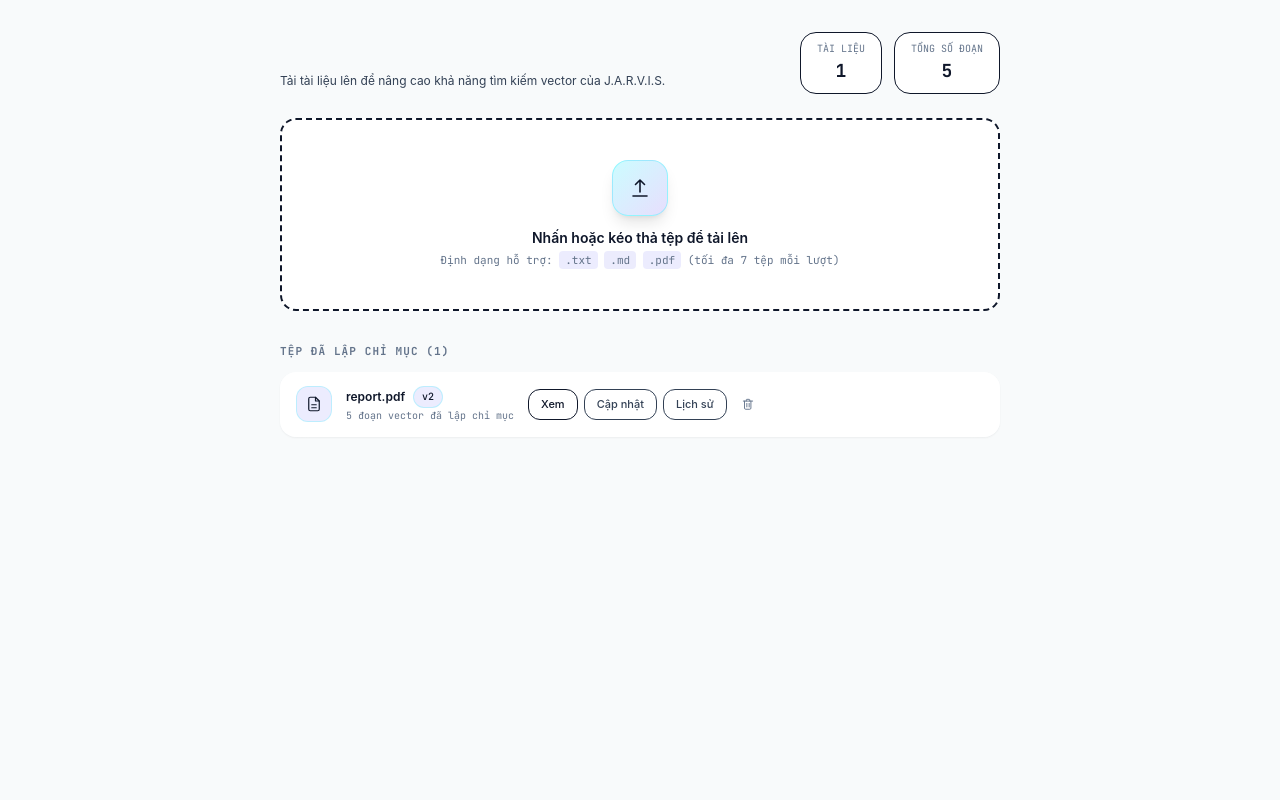
Test case: DocumentsView › shows the version content modal with a translated close button
Click the button "Xem" at (553, 404), box 528,389 -> 578,420
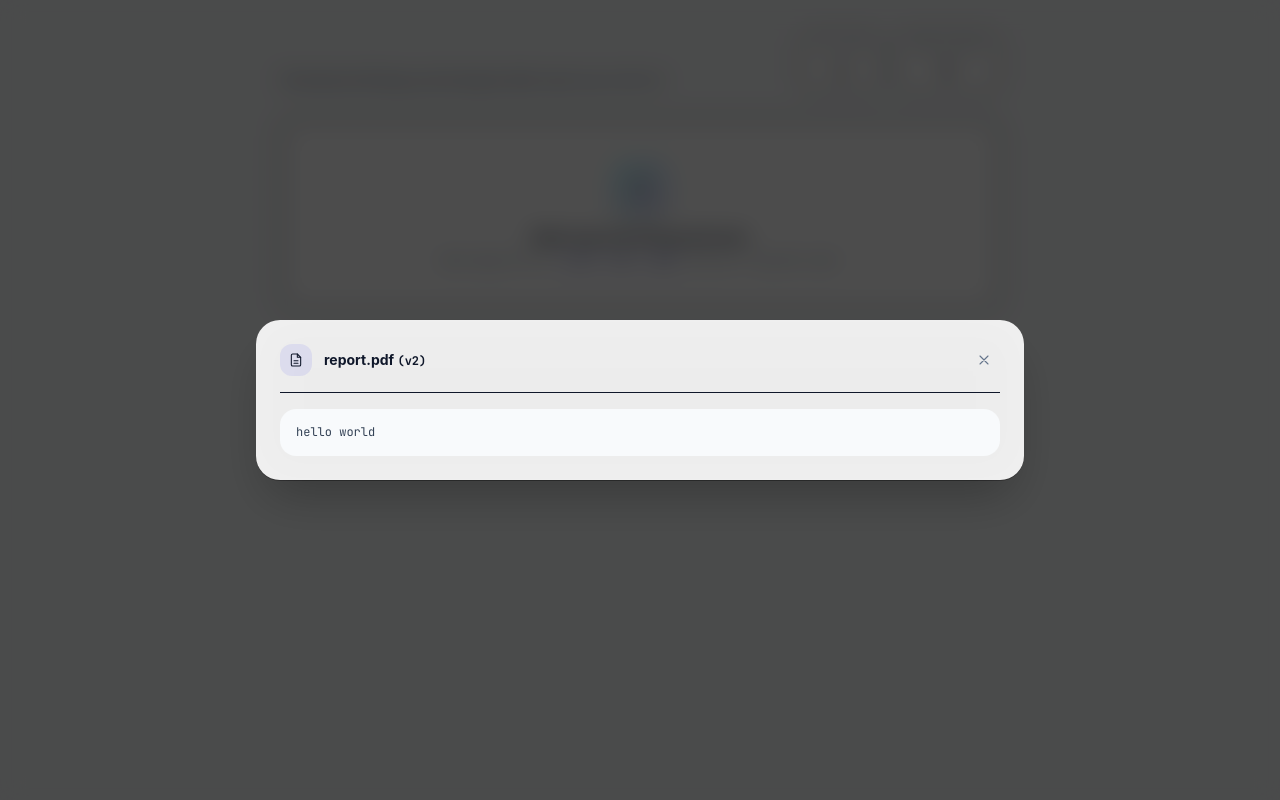
Result: the text "hello world" is shown at 280,409 -> 1000,456
Result: the button named "Đóng" is shown at 968,344 -> 1000,376
